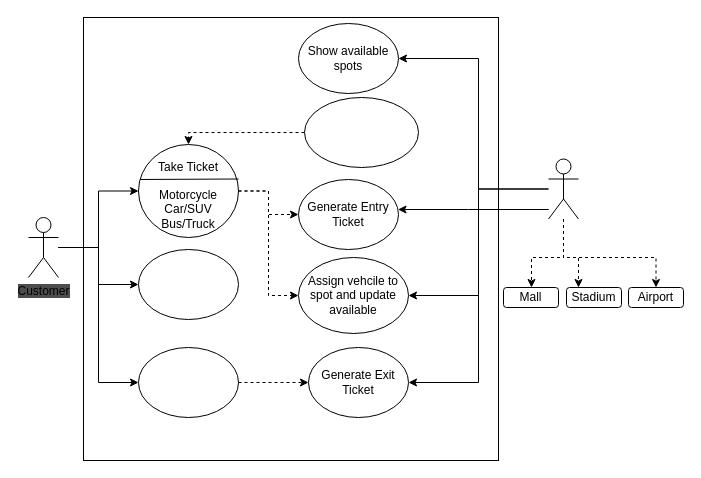
This 701x478 diagram has some shape labels left out. Each missing label, with the centre of its shape:
"Park" belongs at [188,284].
"Show unavailable spots error" belongs at [361,132].
"System" belongs at [563,188].
"Unpark" belongs at [188,382].
